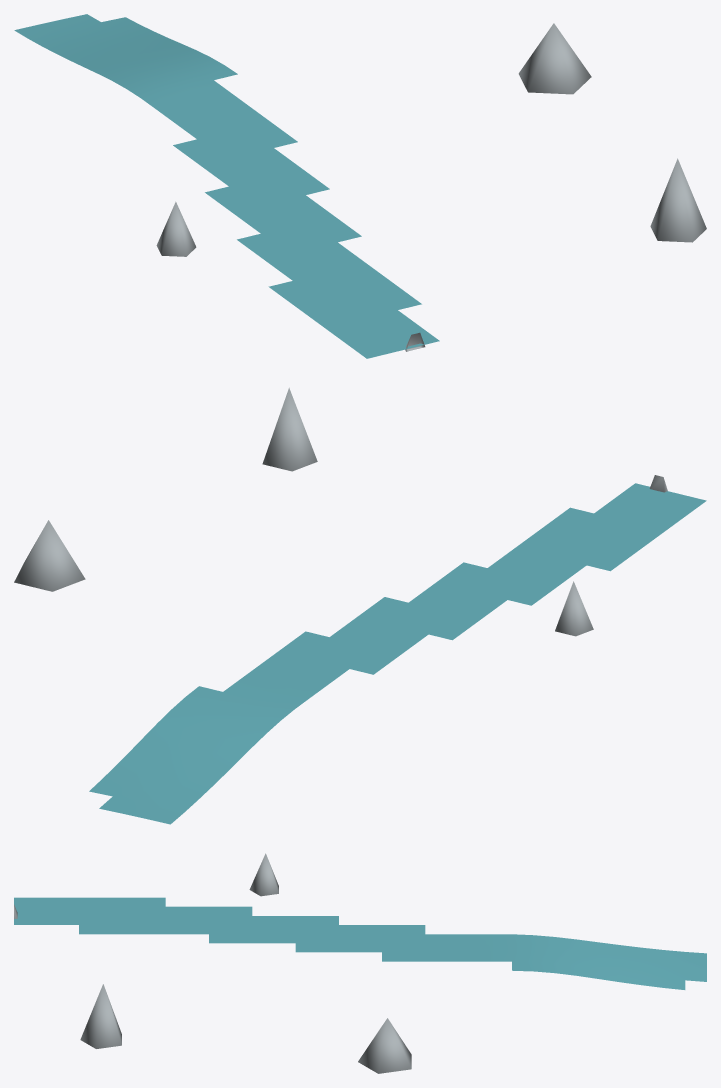
File: alpine-2-2.glb
3 views of the same model, one above another, from view 1: azimuth 30°, elevation 25°; view 2: azimuth 150°, elevation 25°; view 3: azimuth 270°, elevation 25° (orthographic). The views are drawn at different scales.
Parts seen in each view (by area): view 1: alpine-2-2; view 2: alpine-2-2; view 3: alpine-2-2.
Part boxes in pixels (x1=…): alpine-2-2: x1=14, y1=14, x2=706, y2=358; alpine-2-2: x1=14, y1=387, x2=706, y2=824; alpine-2-2: x1=14, y1=853, x2=706, y2=1073.
Bounding box in the file's own units: 166 × 29.71 × 256.
2 materials, 2 textured.
